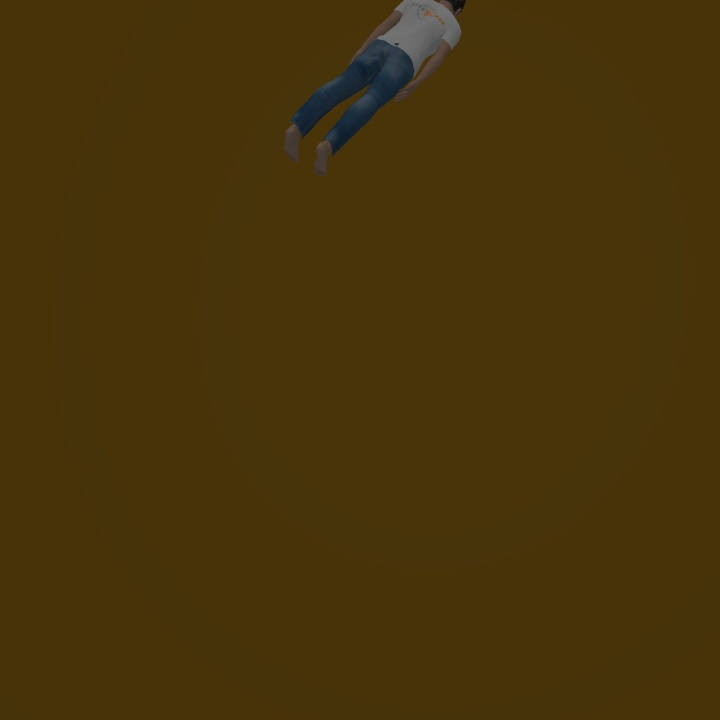victim: (281, 1, 460, 174)
